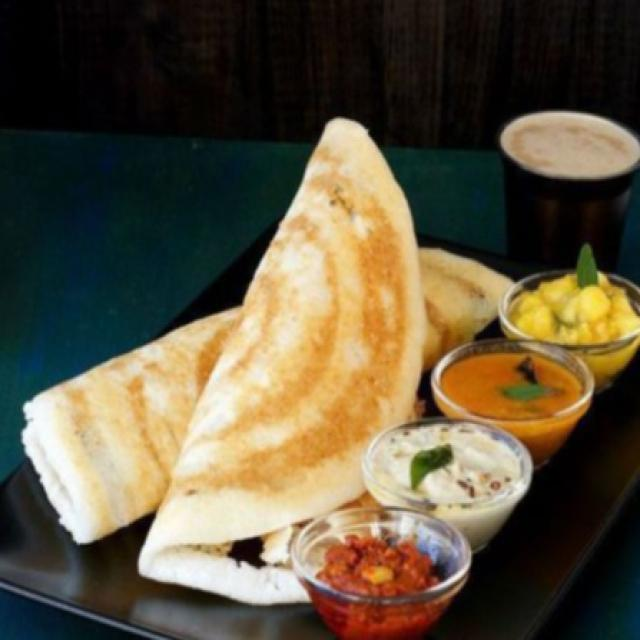DOSA: (24, 118, 430, 606)
RED CHUTNEY: (291, 508, 472, 638)
SAMBAR: (444, 344, 578, 420)
SWEET: (510, 262, 638, 344)
WHITE CHUTNEY: (372, 421, 519, 522)
